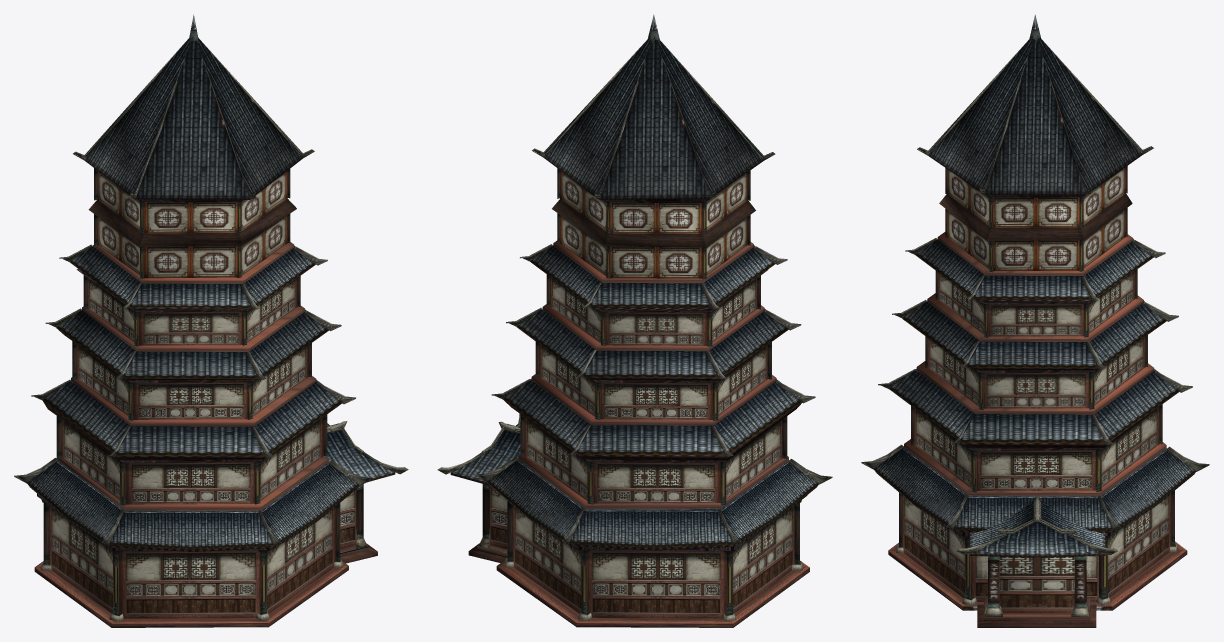
File: b1-013-6tower_lod_01.fbx
3 renders of one model, left to right at view 1: azimuth 30°, elevation 25°; view 2: azimuth 150°, elevation 25°; view 3: azimuth 270°, elevation 25°, orthographic. The views are drawn at different scales.
Parts seen in each view (by area): view 1: b1-013-6tower-01, b1-013-6tower-02; view 2: b1-013-6tower-01, b1-013-6tower-02; view 3: b1-013-6tower-01, b1-013-6tower-02.
Boxes of the visible parts, x1,y1,x2,y2 form: b1-013-6tower-01: (43, 14, 377, 618); b1-013-6tower-02: (14, 199, 408, 627); b1-013-6tower-01: (468, 14, 799, 618); b1-013-6tower-02: (437, 198, 832, 627); b1-013-6tower-01: (899, 14, 1174, 627); b1-013-6tower-02: (861, 194, 1209, 621).
Size of the model in its own units: 15.62 by 26.84 by 15.67.
